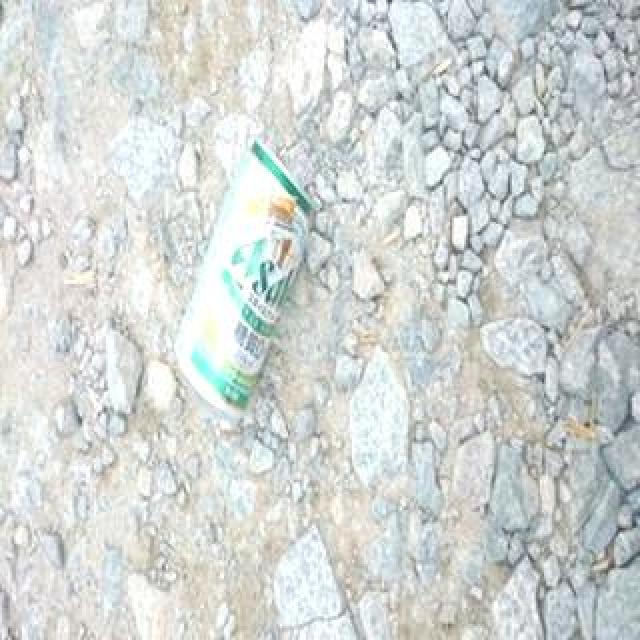Can: (168, 138, 320, 424)
